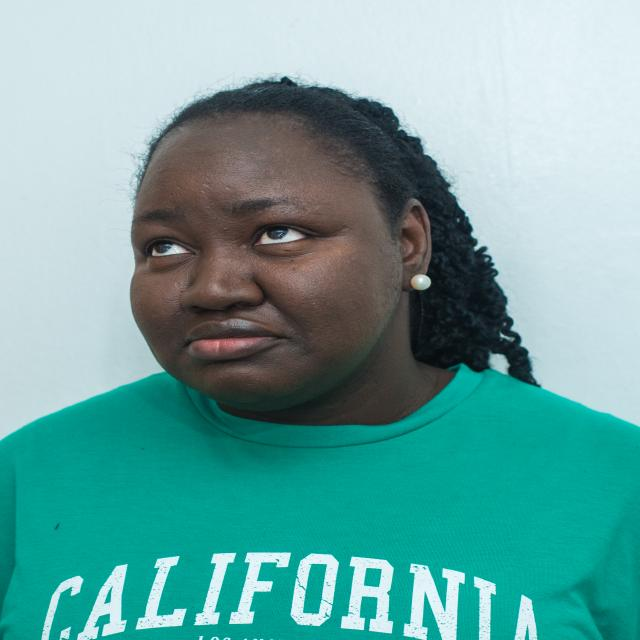sad: (120, 88, 438, 411)
